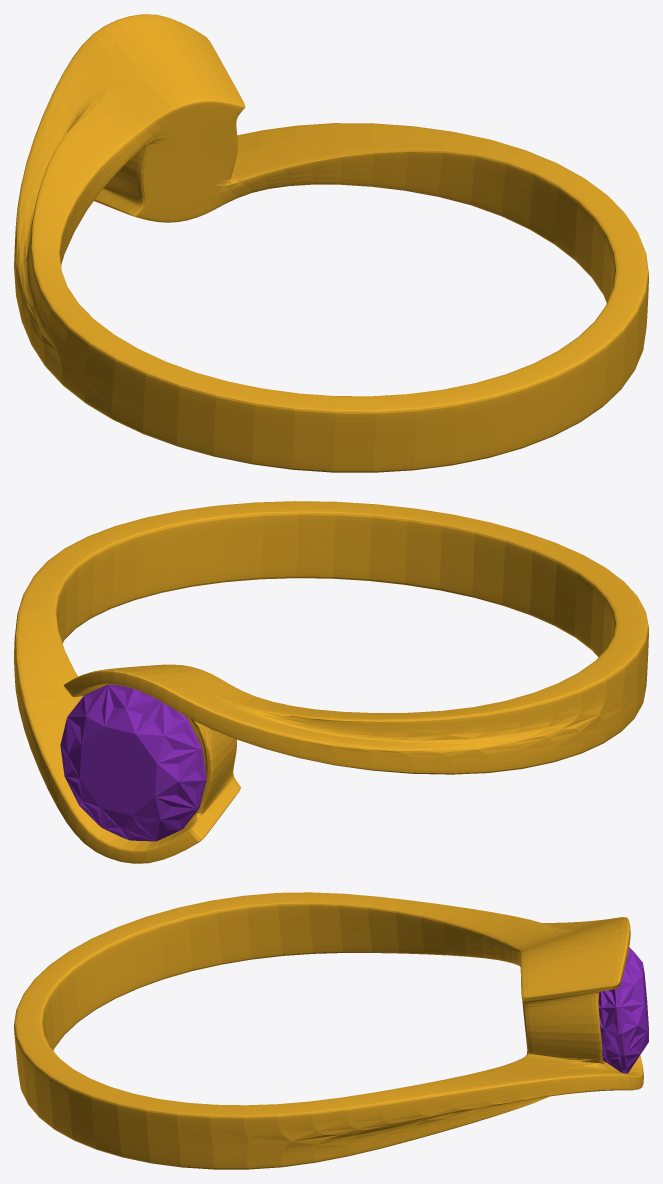
Rendered from ring_0.glb.
The picture shows the model from 3 angles, top to bottom: view 1: azimuth 30°, elevation 25°; view 2: azimuth 150°, elevation 25°; view 3: azimuth 270°, elevation 25°; orthographic projection. The views are drawn at different scales.
Visible parts, largest first — view 1: ring; view 2: ring, gem; view 3: ring, gem.
Part boxes in pixels (bbox=[...]): ring: bbox=[14, 14, 648, 472]; ring: bbox=[14, 501, 648, 863]; gem: bbox=[60, 684, 206, 841]; ring: bbox=[14, 892, 643, 1169]; gem: bbox=[598, 947, 648, 1073].
Bounding box in the file's own units: 13.58 × 4.34 × 16.26.
